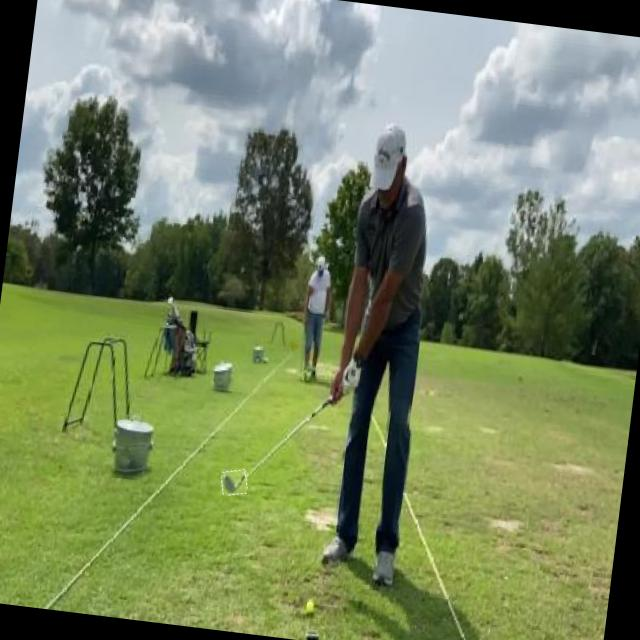club head: (219, 468, 248, 496)
